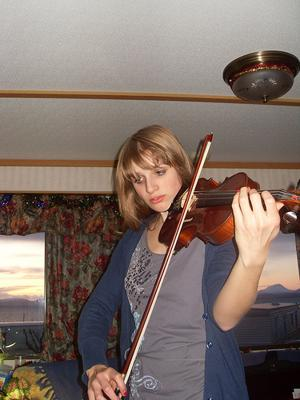person: (77, 125, 284, 400)
